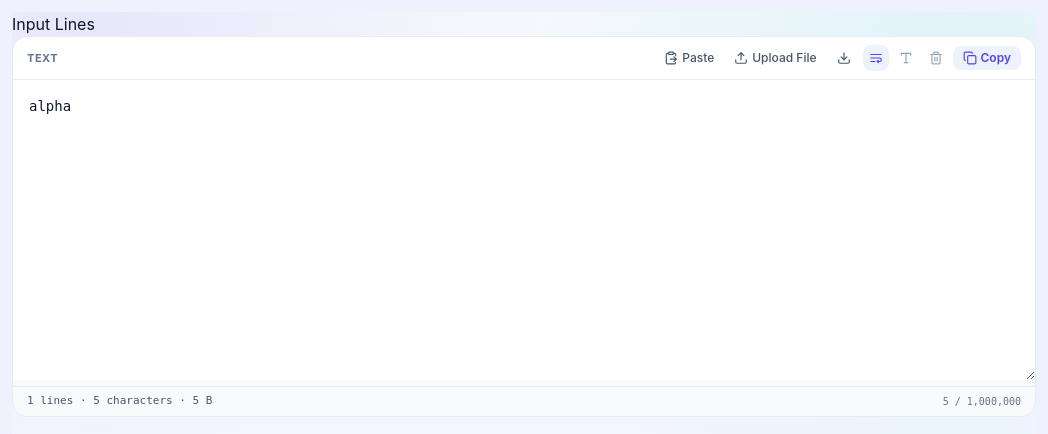
CodeEditor › shows a visible error when clipboard access fails
The width and height of the screenshot is (1048, 434).
Click the button "Copy" at (987, 58), box [952,46,1021,70]
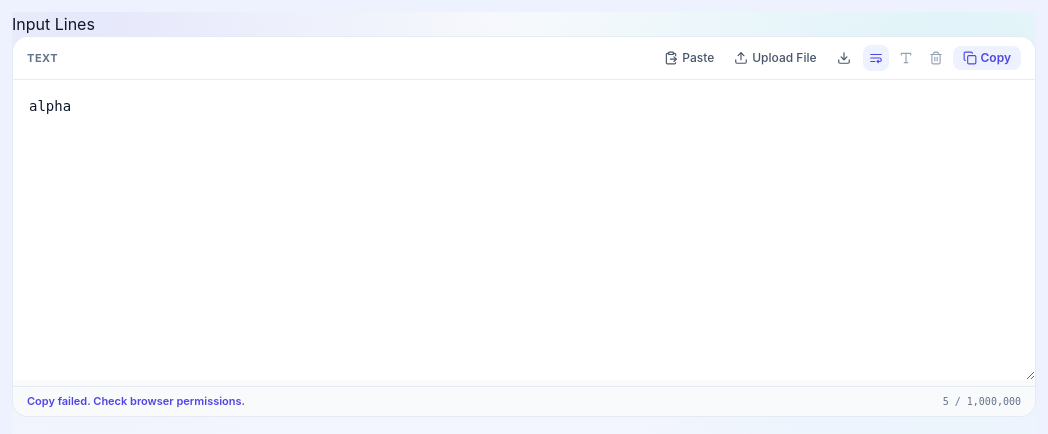
Expected: the message shows "Copy failed. Check browser permissions.", [27,394,245,408]
